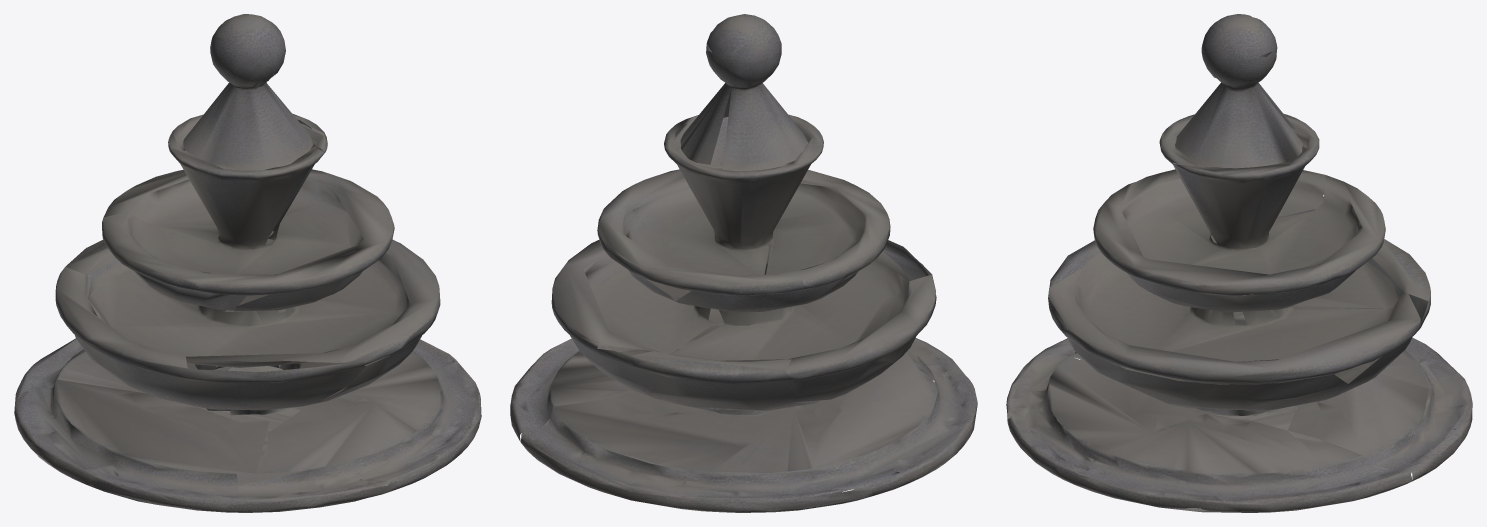
Rendered from fuente.obj.
3 views of the same model, side by side, from view 1: azimuth 30°, elevation 25°; view 2: azimuth 150°, elevation 25°; view 3: azimuth 270°, elevation 25° (orthographic).
Parts seen in each view (by area): view 1: input; view 2: input; view 3: input.
Part boxes in pixels (x1=…): input: x1=14, y1=14, x2=481, y2=512; input: x1=510, y1=14, x2=977, y2=512; input: x1=1006, y1=14, x2=1472, y2=512.
Size of the model in its own units: 0.4472 by 0.4223 by 0.4475.
